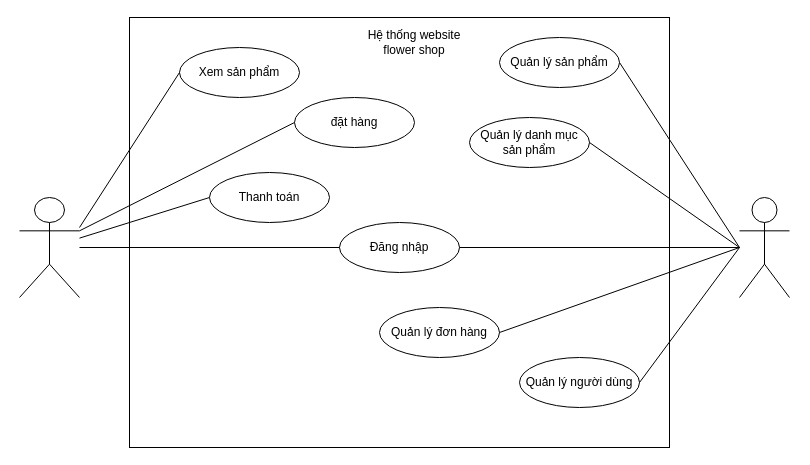
The diagram is 810 pixels wide and 465 high, and some of its shapes have lost their labels. Each missing label, with the centre of its shape:
"Khách hàng" goes at (x=49, y=247).
"Người bán" goes at (x=764, y=247).
